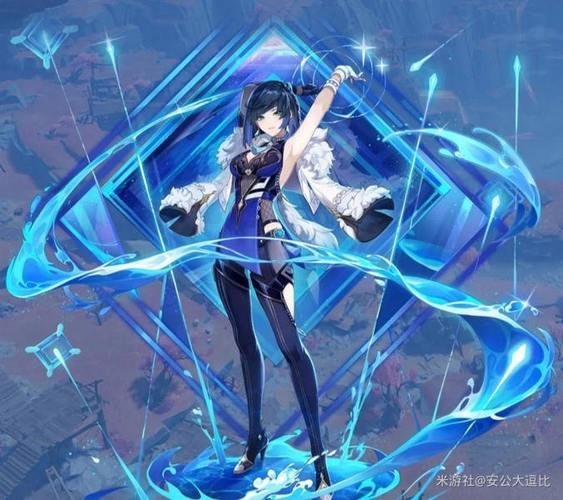夜兰: (211, 58, 368, 500)
